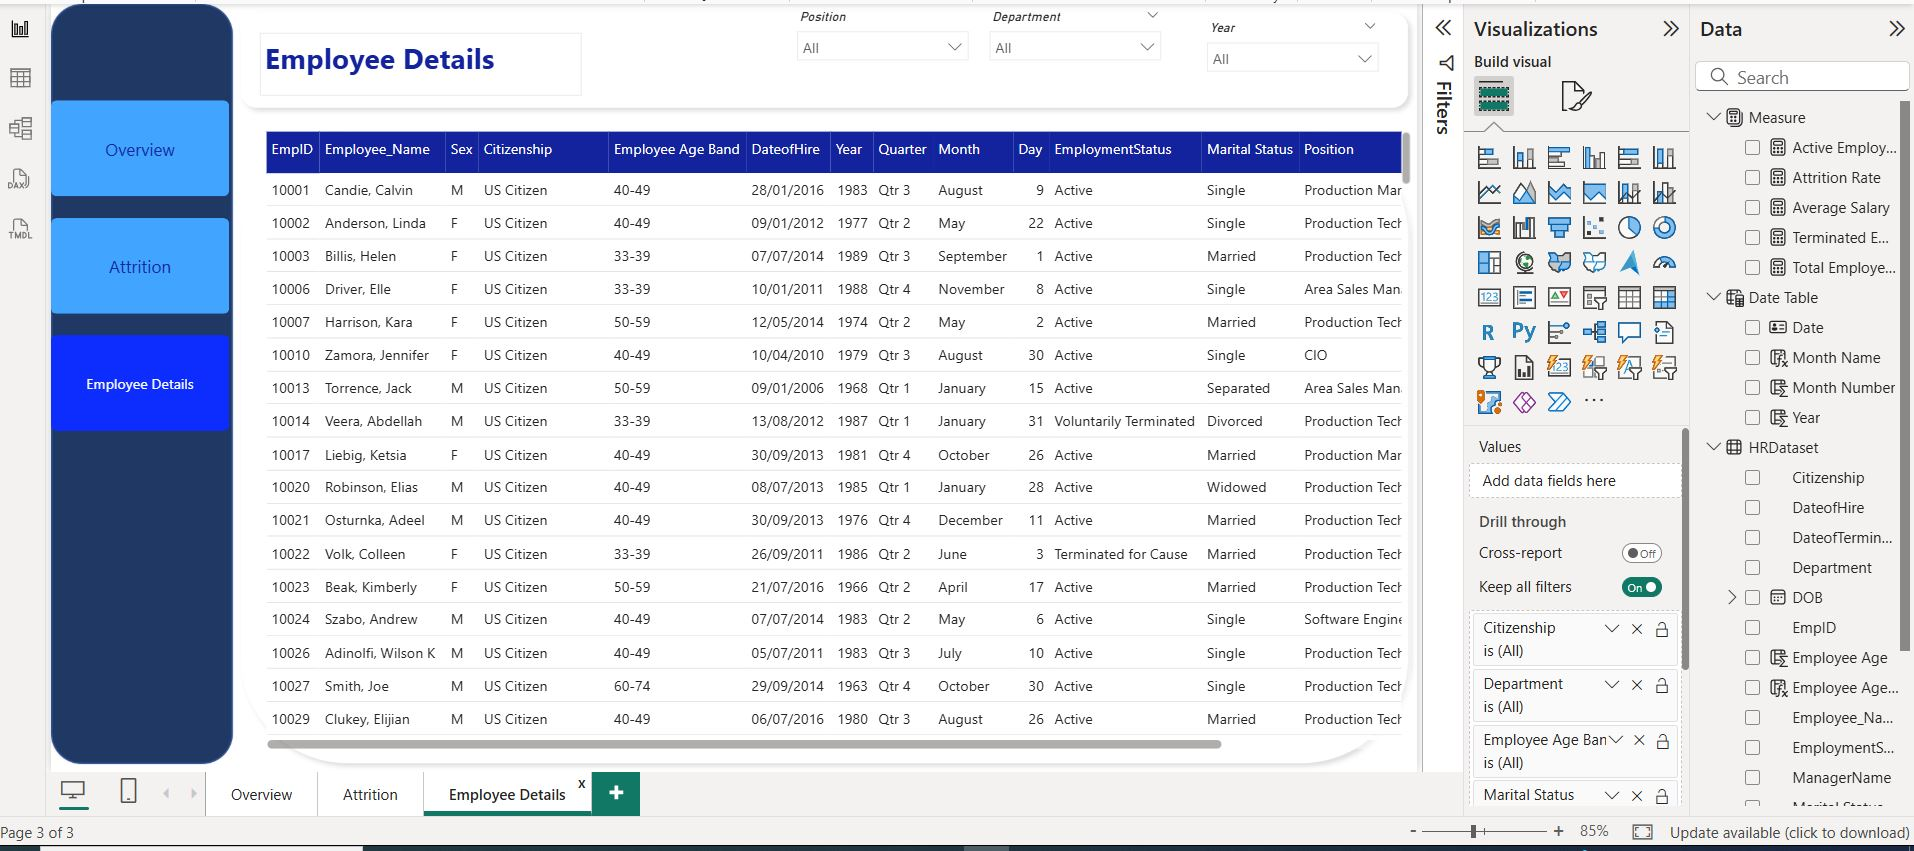

Layout of this report page (visuals, bound fields, positions):
{"tool":"powerbi","page":{"name":"Employee Details","canvas":[1280,720],"ordinal":2},"visuals":[{"type":"slicer","fields":{"Values":["Date Table.Year"]},"box":[1073.1,11,181.1,90.6],"z":0},{"type":"textbox","box":[196.2,27.4,300.5,57.6],"z":1000},{"type":"tableEx","fields":{"Values":["HRDataset.EmpID","HRDataset.Employee_Name","HRDataset.Sex","HRDataset.Citizenship","HRDataset.Employee Age Band","HRDataset.DateofHire","HRDataset.DOB.Variation.Date Hierarchy.Year","HRDataset.DOB.Variation.Date Hierarchy.Quarter","HRDataset.DOB.Variation.Date Hierarchy.Month","HRDataset.DOB.Variation.Date Hierarchy.Day","HRDataset.EmploymentStatus","HRDataset.Marital Status"]},"box":[196.2,115.3,1084.1,588.7],"z":2000},{"type":"slicer","fields":{"Values":["HRDataset.Department"]},"box":[870,0,181.1,90.6],"z":3000},{"type":"slicer","fields":{"Values":["HRDataset.Position"]},"box":[688.9,0,181.1,90.6],"z":4000},{"type":"pageNavigator","box":[0,90.6,167.4,311.5],"z":5000}]}

Visuals, with their boxes on the page's 1280x720 design canvas (x1, y1, x2, y2). These are canvas units, not pixel positions in the 1914x851 screenshot, which may show the page scaled, cropped or inside an application window:
slicer - Date Table.Year: locate(1073, 11, 1254, 102)
textbox: locate(196, 27, 497, 85)
tableEx - HRDataset.EmpID x HRDataset.Employee_Name: locate(196, 115, 1280, 704)
slicer - HRDataset.Department: locate(870, 0, 1051, 91)
slicer - HRDataset.Position: locate(689, 0, 870, 91)
pageNavigator: locate(0, 91, 167, 402)
